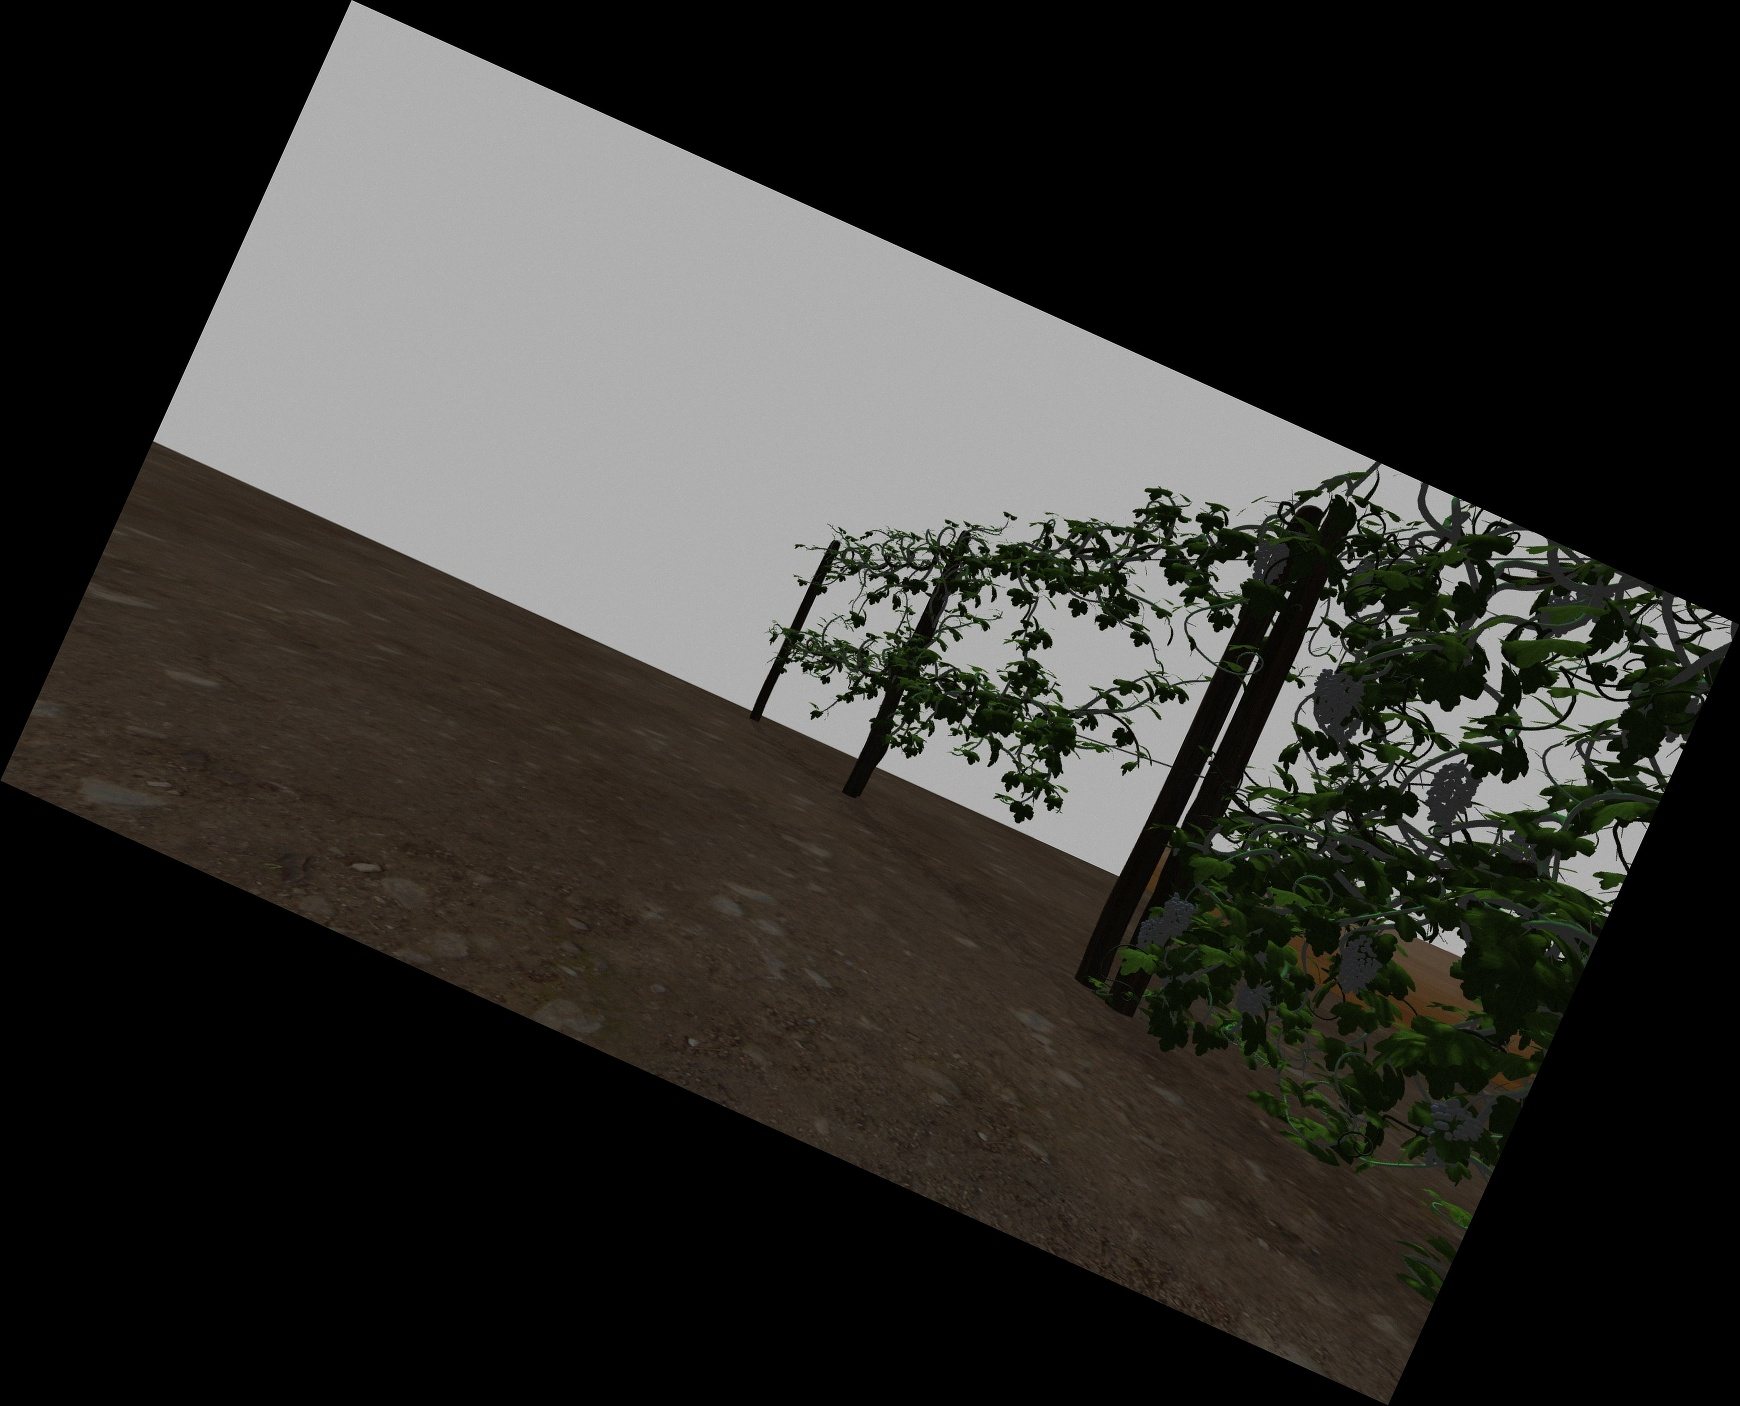grape: (1310, 671, 1358, 732), (1338, 938, 1379, 999), (1427, 765, 1467, 824), (1430, 1100, 1485, 1142), (1252, 539, 1287, 584), (1160, 897, 1191, 937), (1237, 983, 1267, 1020), (1136, 921, 1166, 954)
